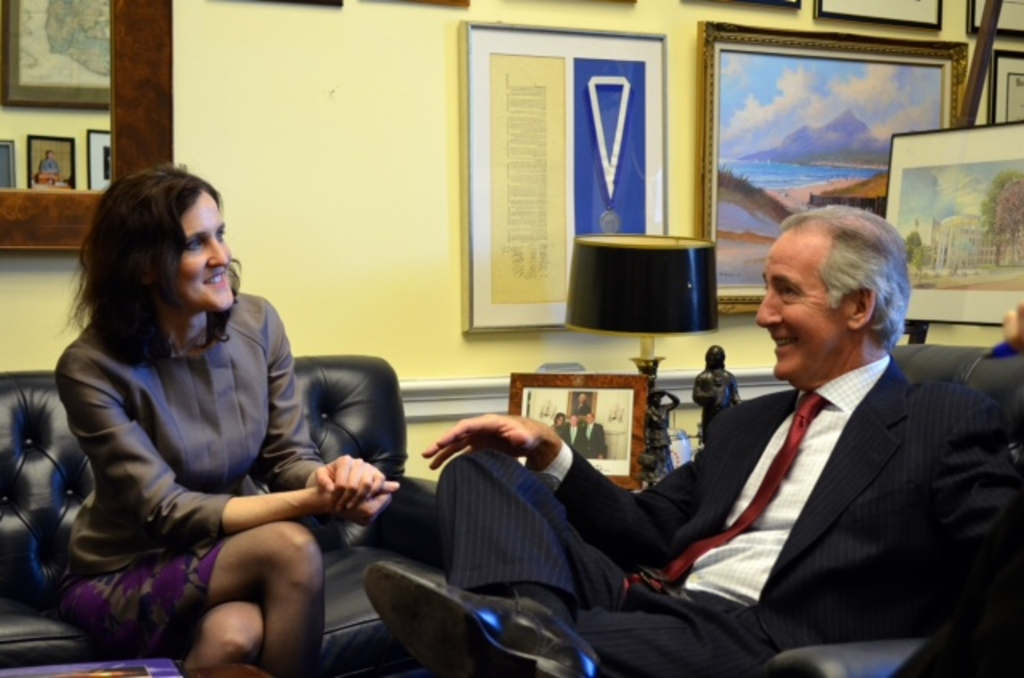Human_hand: (418, 409, 550, 472), (302, 453, 386, 518), (307, 478, 402, 531)
